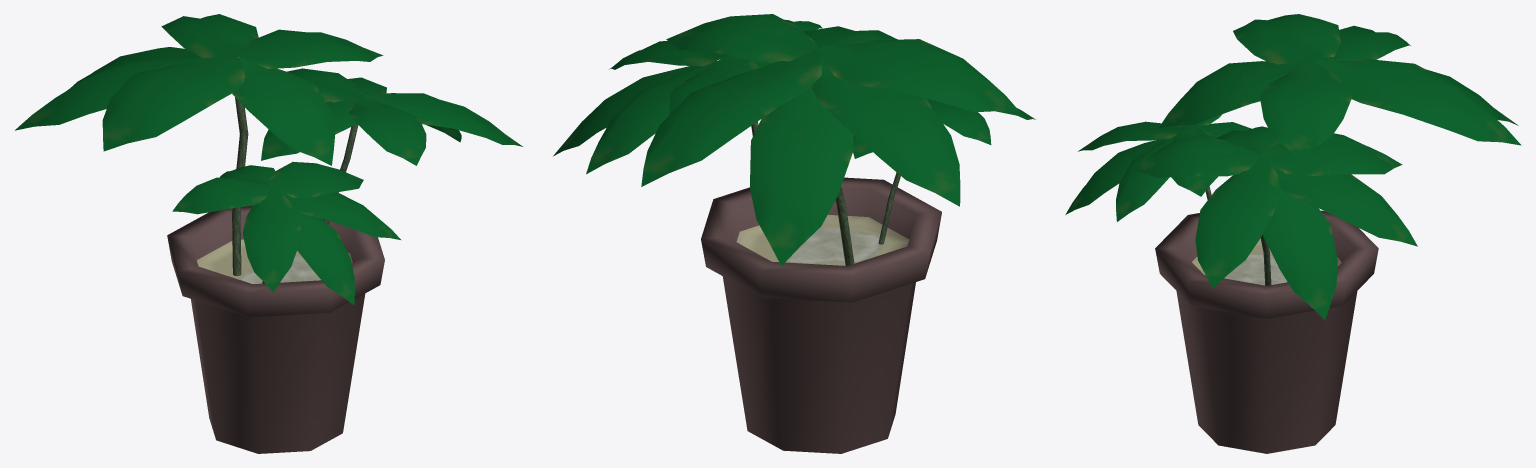
The model's file is bananenplant.glb.
3 views of the same model, side by side, from view 1: azimuth 30°, elevation 25°; view 2: azimuth 150°, elevation 25°; view 3: azimuth 270°, elevation 25° (orthographic). The views are drawn at different scales.
Parts seen in each view (by area): view 1: low_poly_pot; view 2: low_poly_pot; view 3: low_poly_pot.
Boxes of the visible parts, x1,y1,x2,y2 form: low_poly_pot: [15, 14, 522, 453]; low_poly_pot: [553, 14, 1035, 453]; low_poly_pot: [1065, 14, 1521, 453].
Bounding box in the file's own units: 3.89 × 3.24 × 3.75.
1 material, 1 textured.
